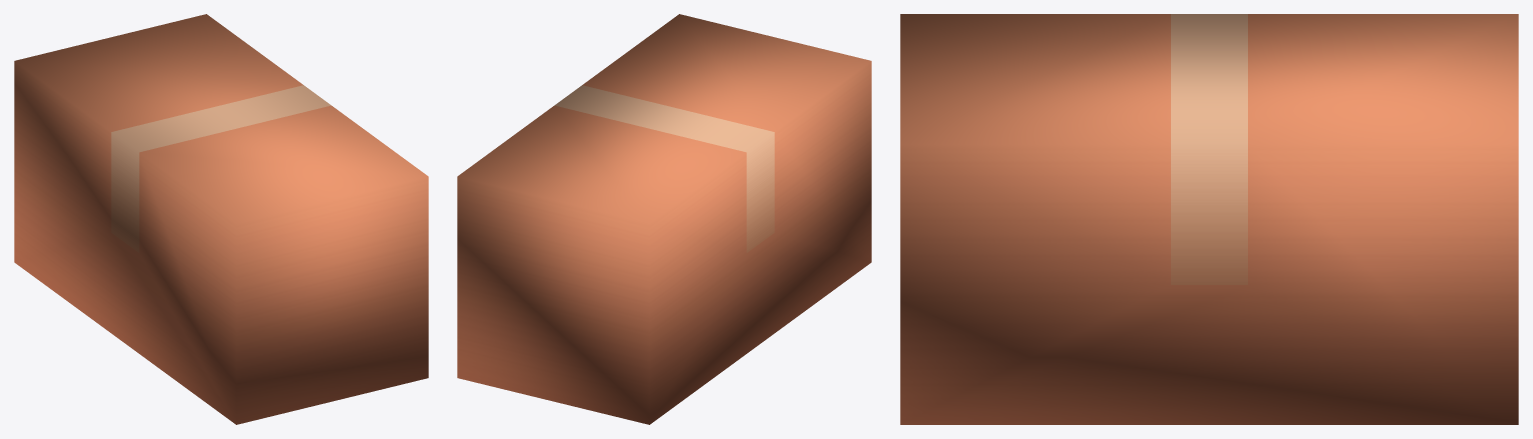
Rendered from box_wide.glb.
3 views of the same model, side by side, from view 1: azimuth 30°, elevation 25°; view 2: azimuth 150°, elevation 25°; view 3: azimuth 270°, elevation 25° (orthographic). The views are drawn at different scales.
Visible parts, largest first — view 1: box-wide; view 2: box-wide; view 3: box-wide.
Part boxes in pixels (bbox=[...]): box-wide: bbox=[14, 14, 428, 424]; box-wide: bbox=[457, 14, 871, 424]; box-wide: bbox=[900, 14, 1518, 424].
Bounding box in the file's own units: 0.5 × 0.5 × 1.
1 material, 1 textured.
